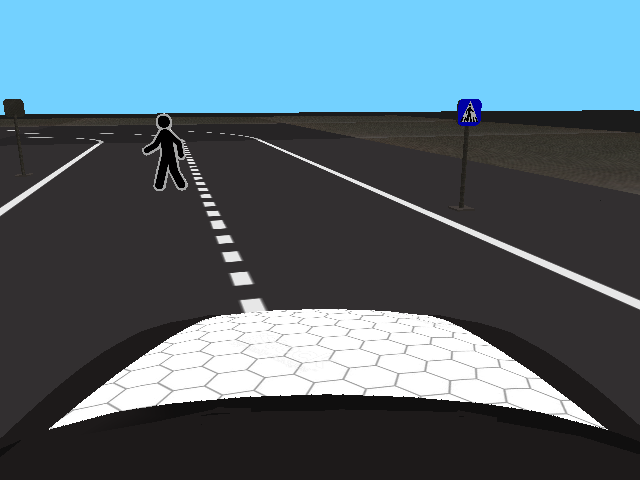pedestrian: (141, 113, 189, 192)
